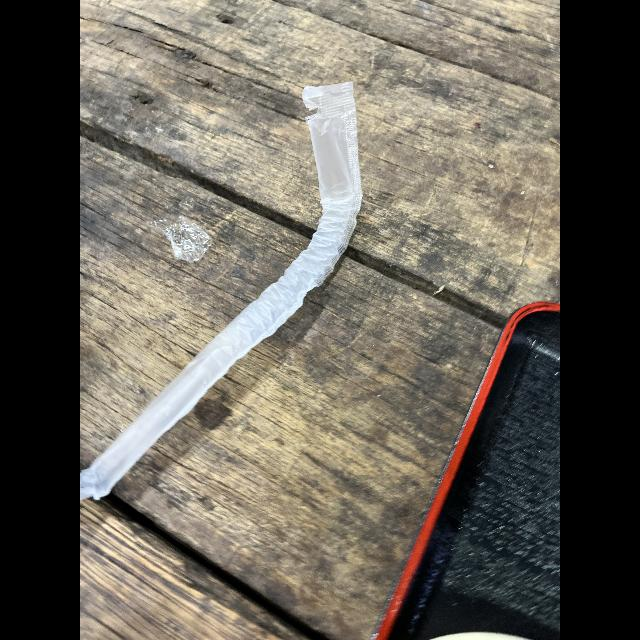scrap_plastic: (84, 82, 363, 500)
